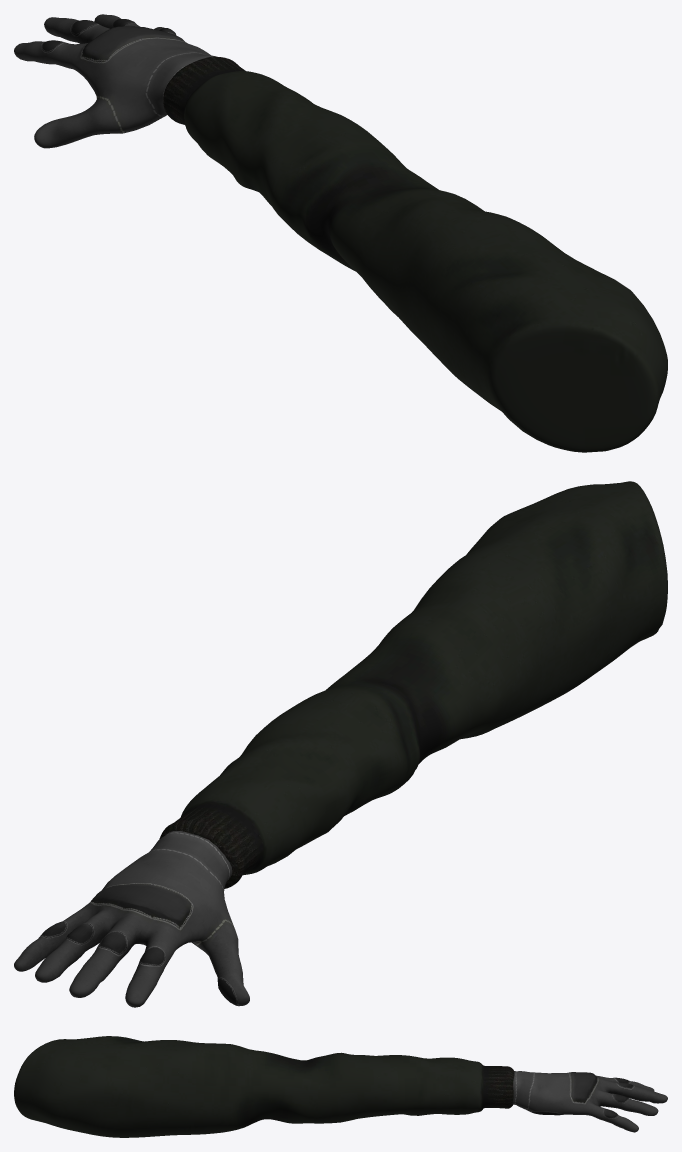
Rendered from arms.glb.
3 views of the same model, one above another, from view 1: azimuth 30°, elevation 25°; view 2: azimuth 150°, elevation 25°; view 3: azimuth 270°, elevation 25° (orthographic). The views are drawn at different scales.
Parts seen in each view (by area): view 1: rekaw_R_LP:Group13859, rekawiczki_R_ready:Group18611; view 2: rekaw_R_LP:Group13859, rekawiczki_R_ready:Group18611; view 3: rekaw_R_LP:Group13859, rekawiczki_R_ready:Group18611.
Boxes of the visible parts, x1,y1,x2,y2 form: rekaw_R_LP:Group13859: (163,56,667,452); rekawiczki_R_ready:Group18611: (14,14,215,148); rekaw_R_LP:Group13859: (159,481,667,888); rekawiczki_R_ready:Group18611: (14,831,249,1007); rekaw_R_LP:Group13859: (14,1036,514,1137); rekawiczki_R_ready:Group18611: (512,1071,667,1132).
Bounding box in the file's own units: 0.0208 × 0.0159 × 0.1087.
Materials: 2 (2 with a texture image).
